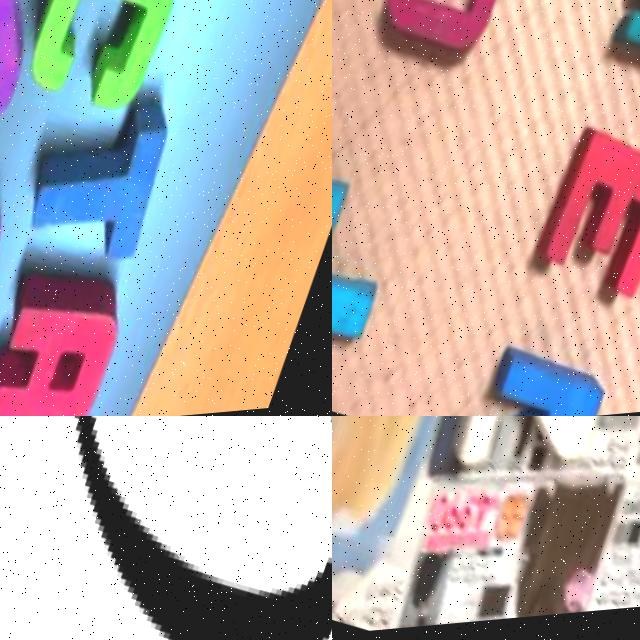5: (0, 416, 332, 640)
A: (0, 243, 138, 416)
C: (6, 0, 195, 143)
E: (524, 125, 640, 322)
J: (332, 181, 404, 354)
O: (373, 0, 521, 73)
T: (1, 76, 184, 295)
Z: (438, 416, 633, 508)
